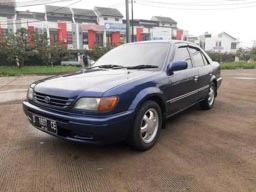plat: (31, 113, 57, 134)
